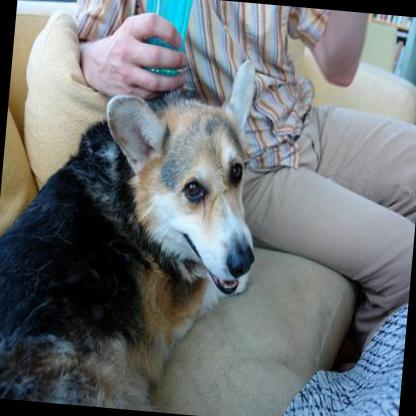Pembroke: (0, 37, 271, 416)
